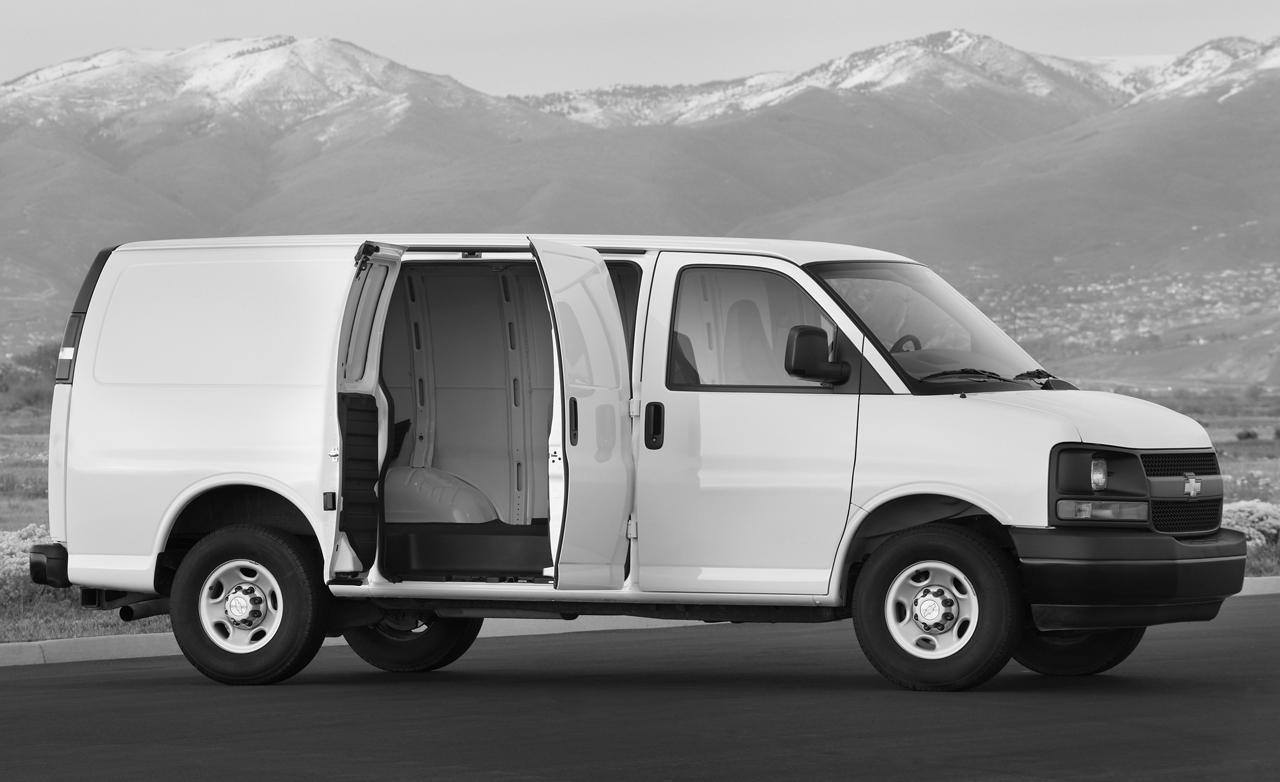car: (27, 227, 1256, 699)
